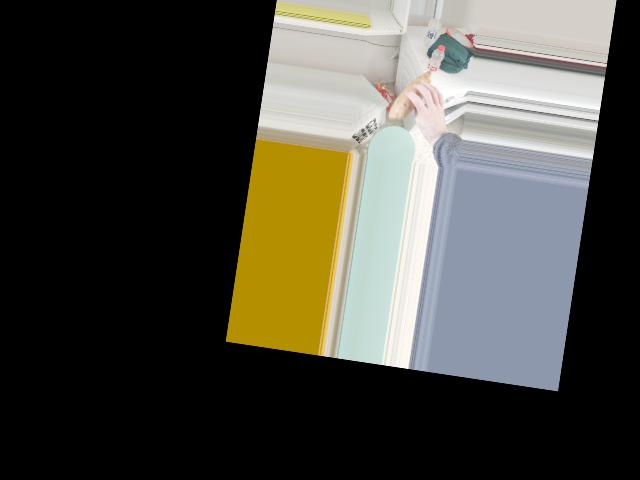sweet_potato: (389, 67, 438, 117)
